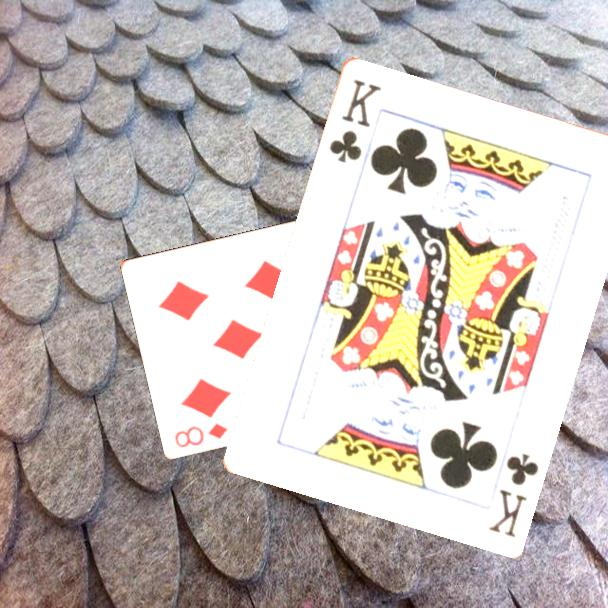c13: (325, 75, 384, 165), (485, 449, 541, 540)
d08: (171, 419, 231, 450)
